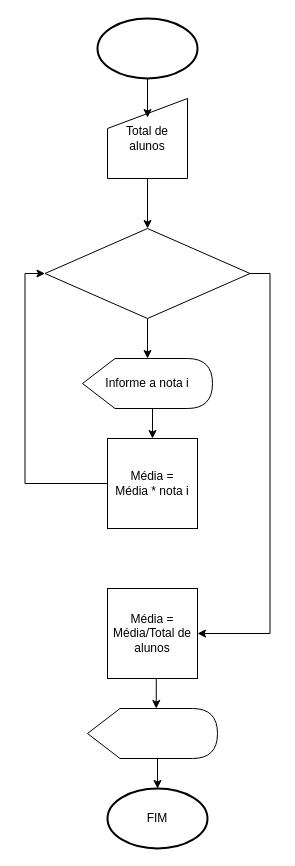
Image size: 295x866. Some labels were removed from this diagram. Each missing label, with the centre of its shape:
i = 1 até i = Total de alunos sendo i++: (x=147, y=273)
INICIO: (x=147, y=48)
Média: (x=152, y=733)
